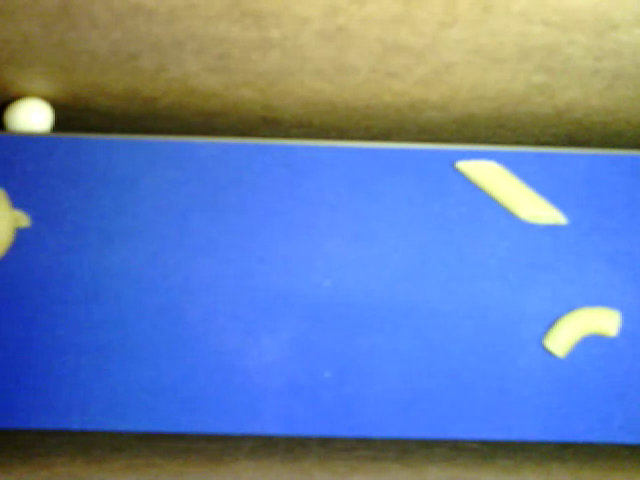elbow: (542, 305, 621, 358)
penne: (454, 158, 568, 225)
